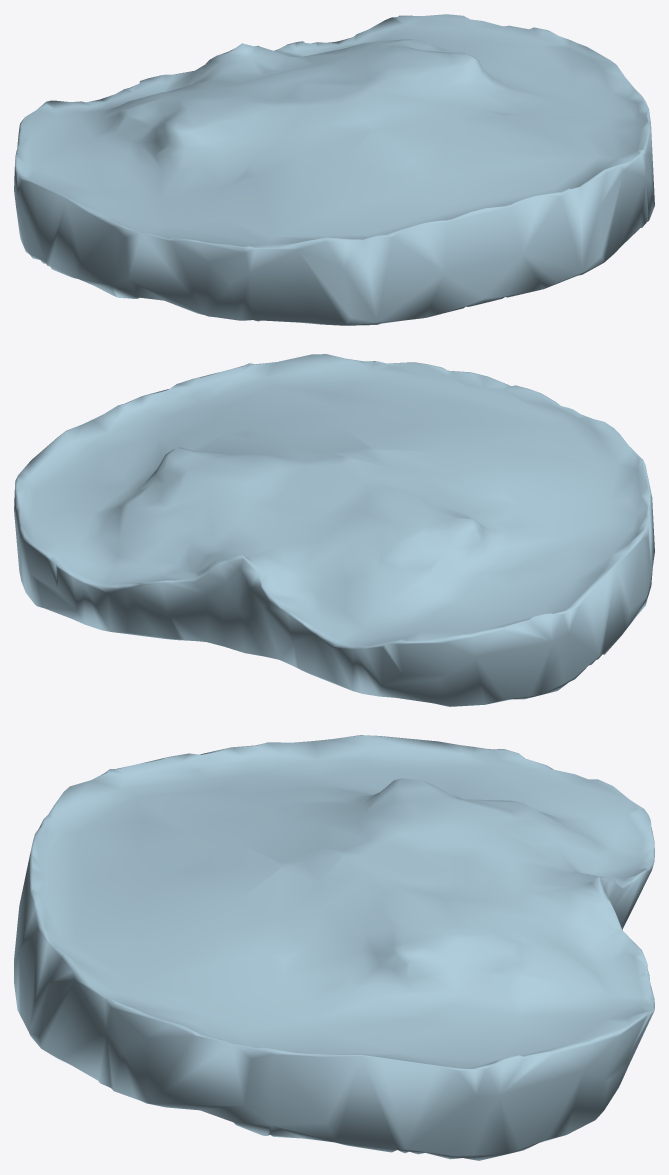
File: articulacoes-intervertebral-disc-l2-l3.glb
3 views of the same model, one above another, from view 1: azimuth 30°, elevation 25°; view 2: azimuth 150°, elevation 25°; view 3: azimuth 270°, elevation 25° (orthographic). The views are drawn at different scales.
Visible parts, largest first — view 1: Intervertebral disc L2-L3; view 2: Intervertebral disc L2-L3; view 3: Intervertebral disc L2-L3.
Boxes of the visible parts, left/top/right/bottom form: Intervertebral disc L2-L3: left=14, top=14, right=654, bottom=325; Intervertebral disc L2-L3: left=14, top=354, right=654, bottom=706; Intervertebral disc L2-L3: left=14, top=735, right=654, bottom=1160.
Size of the model in its own units: 0.0459 by 0.0102 by 0.0382.
